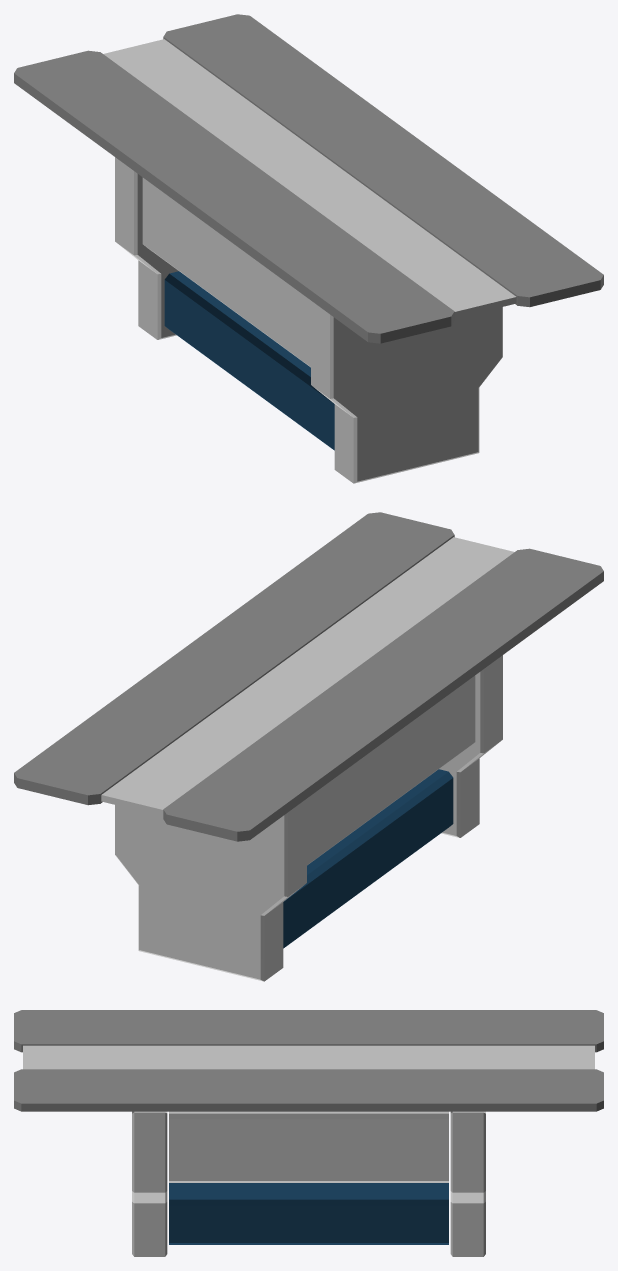
File: hospital bed base.glb
3 views of the same model, one above another, from view 1: azimuth 30°, elevation 25°; view 2: azimuth 150°, elevation 25°; view 3: azimuth 270°, elevation 25° (orthographic). The views are drawn at different scales.
Parts seen in each view (by area): view 1: hospital bed base; view 2: hospital bed base; view 3: hospital bed base.
Boxes of the visible parts, box(x1,y1,x2,y2) form: hospital bed base: box(14, 14, 603, 483); hospital bed base: box(14, 512, 603, 981); hospital bed base: box(14, 1010, 603, 1256).
Size of the model in its own units: 0.75 by 0.655 by 2.
